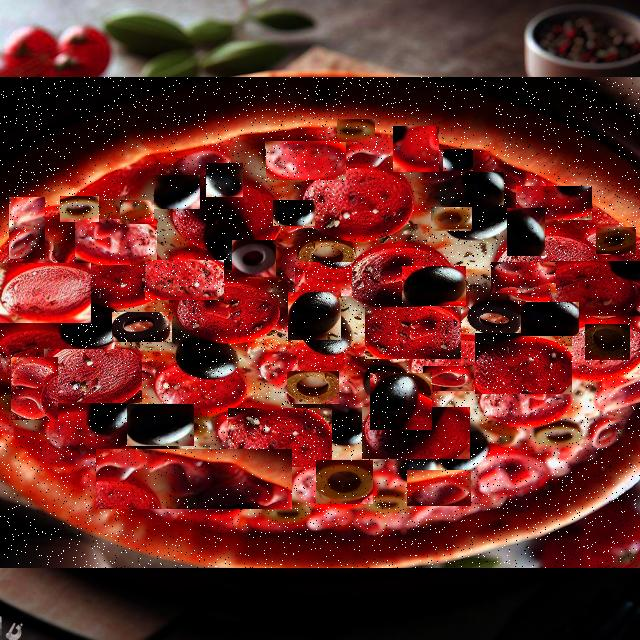Ham: (96, 449, 292, 509), (11, 358, 58, 422), (407, 470, 471, 506), (9, 197, 45, 259), (582, 372, 629, 416), (492, 262, 558, 293), (423, 366, 474, 391), (344, 263, 384, 293)
Olives: (370, 373, 432, 430), (127, 404, 195, 446), (402, 266, 466, 306), (288, 292, 341, 340), (316, 460, 373, 504), (200, 292, 263, 330), (404, 269, 464, 303), (521, 302, 579, 336), (507, 208, 545, 256), (112, 312, 172, 342), (287, 371, 339, 404), (232, 240, 276, 277), (585, 324, 630, 360), (154, 175, 200, 209), (4, 324, 60, 350), (462, 172, 504, 205), (206, 163, 243, 197), (273, 200, 315, 226), (596, 227, 636, 254), (60, 196, 99, 222), (337, 120, 375, 144), (431, 207, 472, 229), (484, 154, 530, 173), (432, 209, 471, 231), (120, 200, 154, 224), (443, 149, 473, 171), (238, 131, 268, 149)
Pepperoni: (187, 335, 295, 396), (228, 408, 332, 467), (476, 333, 574, 394), (362, 407, 470, 459), (0, 263, 91, 323), (44, 349, 142, 403), (365, 307, 461, 359), (550, 261, 640, 316), (334, 184, 427, 236), (75, 219, 157, 265), (145, 260, 224, 300), (266, 141, 346, 180), (395, 237, 488, 270), (94, 151, 161, 194), (516, 187, 592, 220), (393, 126, 439, 172), (295, 262, 352, 296)
Pizza: (0, 77, 640, 568)
